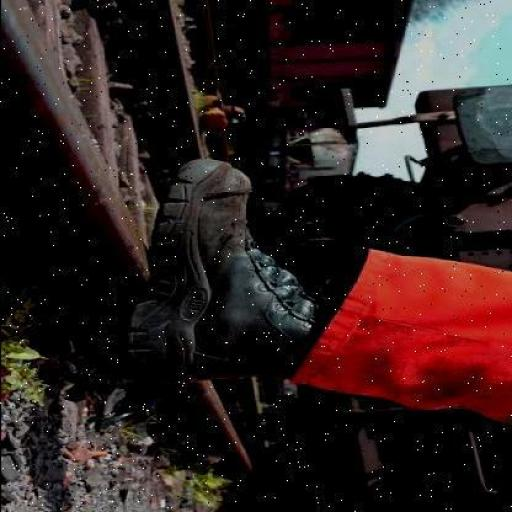safety_shoe: (123, 156, 337, 388)
